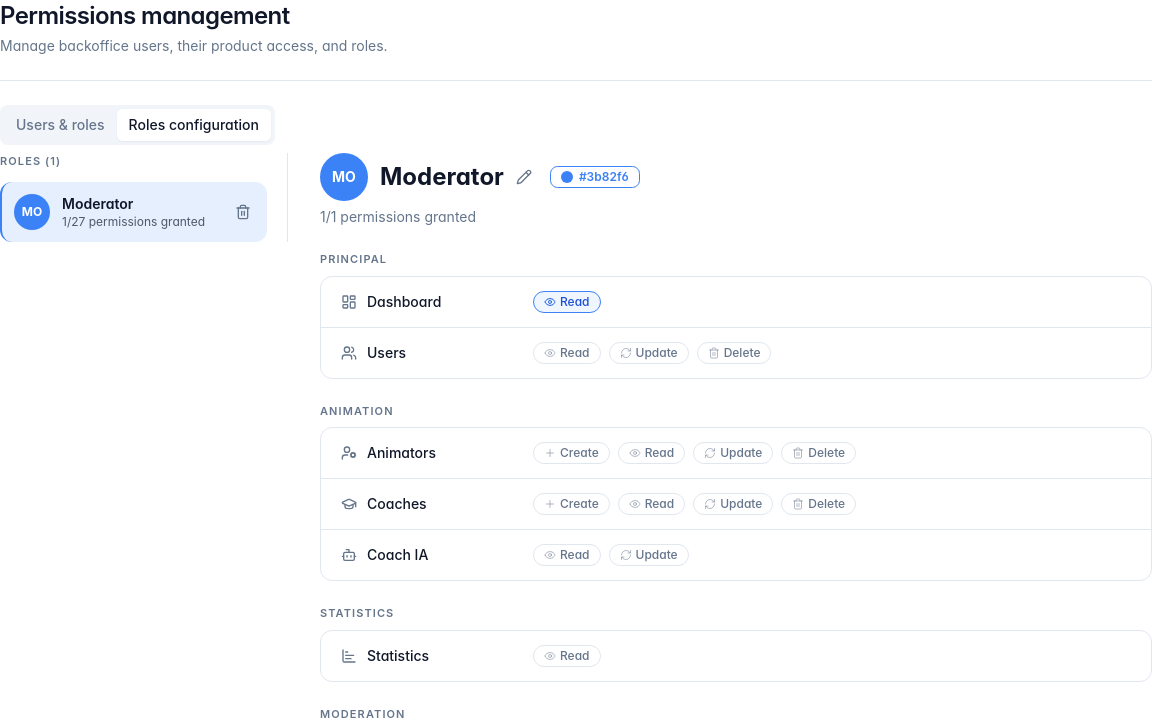
PermissionsPage — Inline role editing › shows a color picker badge that opens a popover on click
This screenshot has width=1152, height=720.
Click the button named "pick a color" at (595, 177), box 550,166 -> 640,188
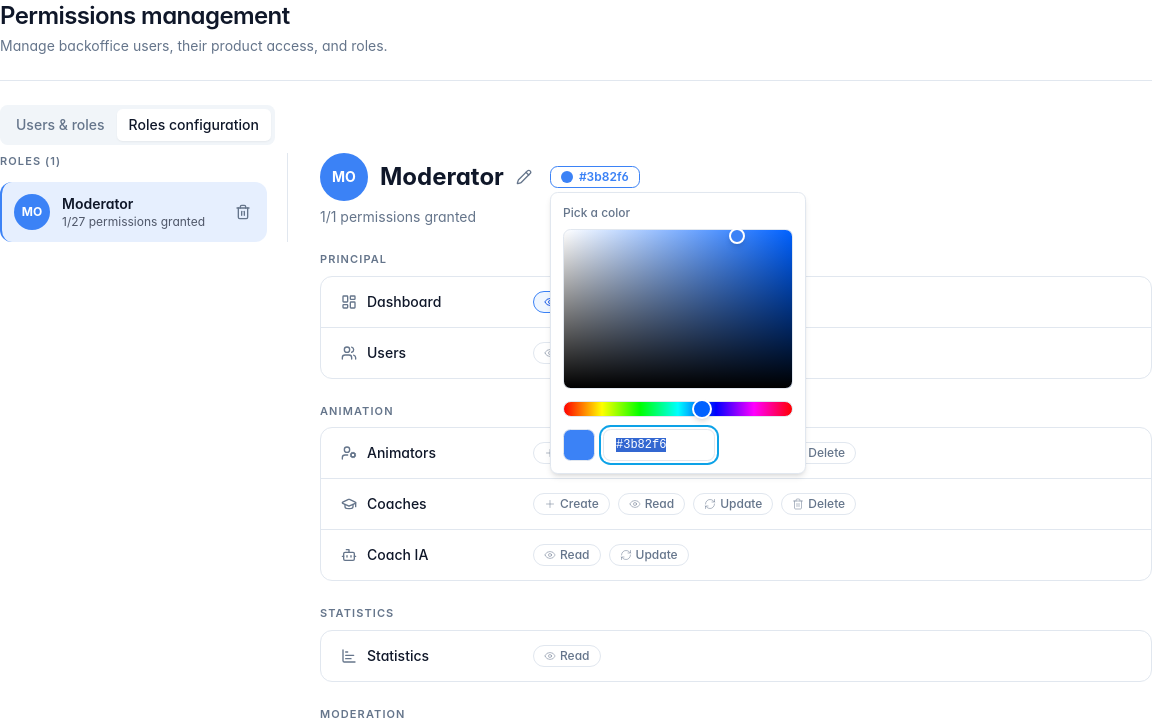
Now the field named "Hex color" is shown, box 603,429 -> 715,461
